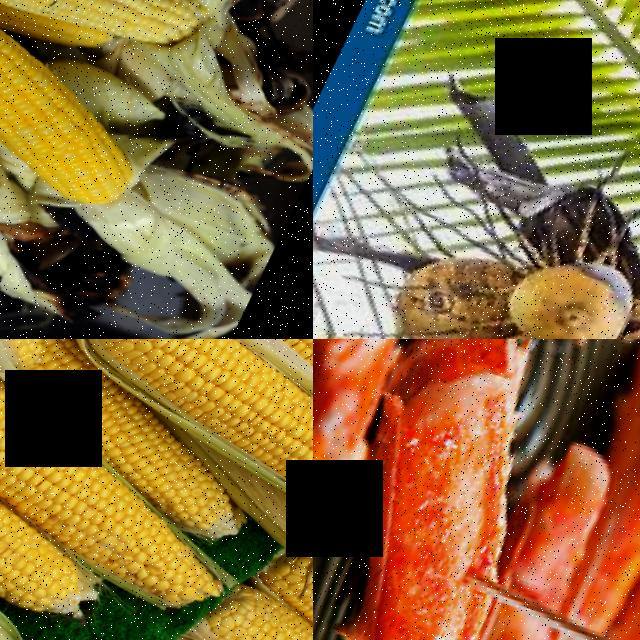coconut: (389, 237, 540, 339), (497, 240, 640, 339)
corn: (0, 365, 301, 626), (46, 339, 313, 561), (80, 399, 281, 546), (0, 80, 178, 225), (0, 483, 118, 626), (0, 0, 92, 142), (28, 0, 225, 66), (0, 539, 70, 640), (0, 92, 39, 233)
